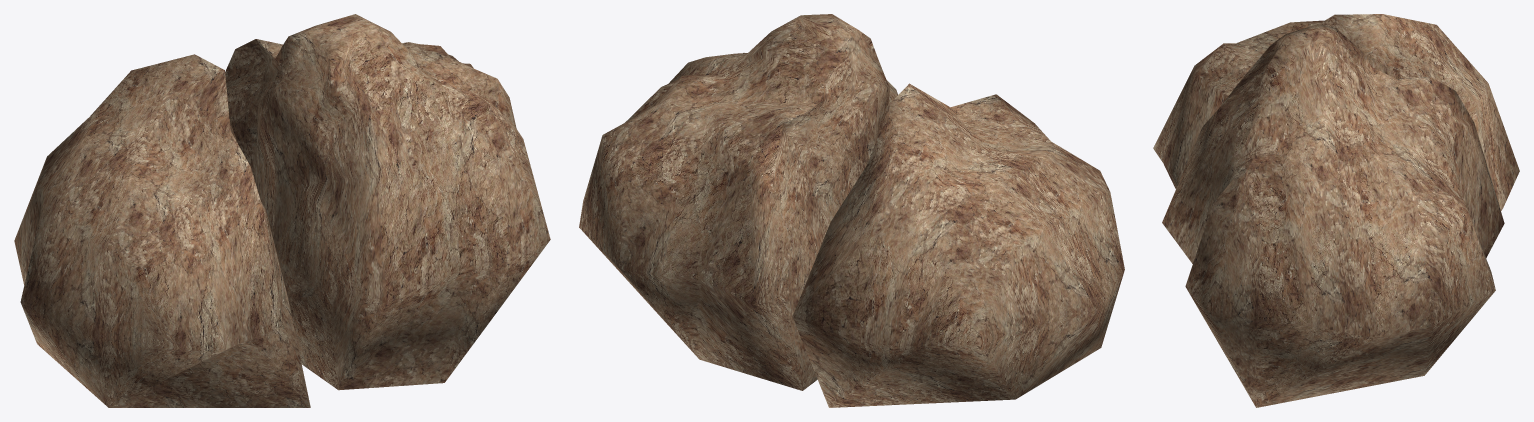
Rendered from rock_tatt_boulder_tan_a2_l0.fbx.
3 renders of one model, left to right at view 1: azimuth 30°, elevation 25°; view 2: azimuth 150°, elevation 25°; view 3: azimuth 270°, elevation 25°, orthographic. The views are drawn at different scales.
Visible parts, largest first — view 1: mesh_node; view 2: mesh_node; view 3: mesh_node.
Part boxes in pixels (x1=…): mesh_node: x1=14, y1=14, x2=550, y2=407; mesh_node: x1=579, y1=14, x2=1124, y2=407; mesh_node: x1=1153, y1=14, x2=1519, y2=407.
Bounding box in the file's own units: 9.41 × 6.24 × 6.08.
